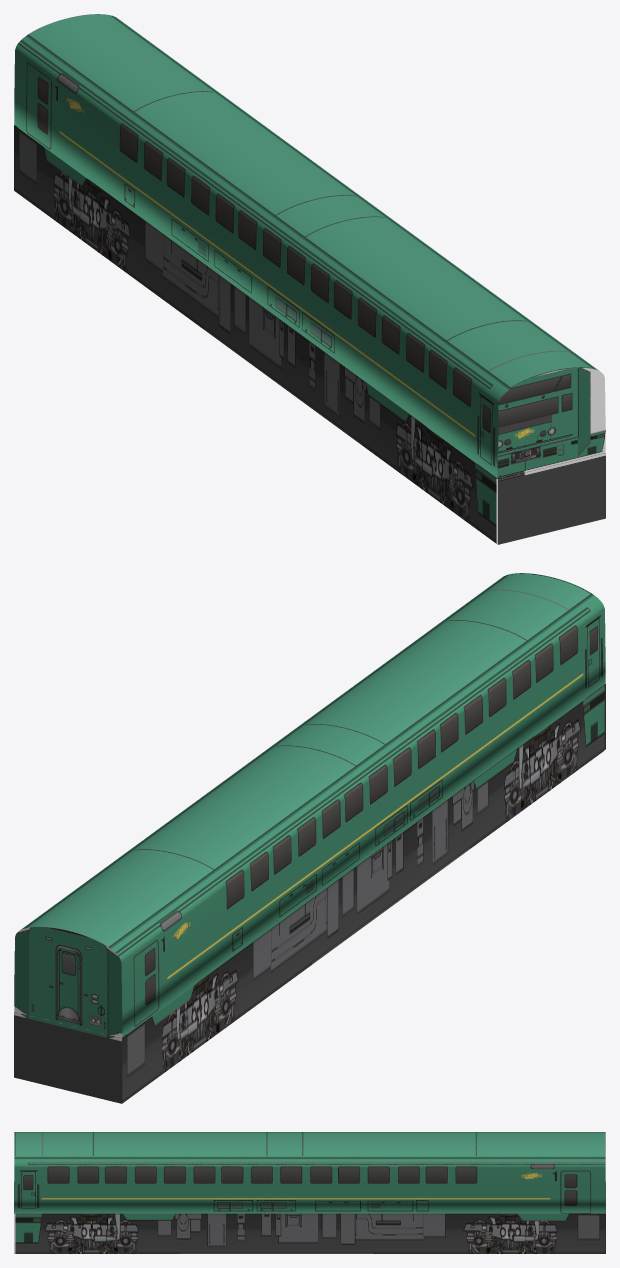
File: car1.glb
The picture shows the model from 3 angles, top to bottom: view 1: azimuth 30°, elevation 25°; view 2: azimuth 150°, elevation 25°; view 3: azimuth 270°, elevation 25°; orthographic projection. The views are drawn at different scales.
Parts seen in each view (by area): view 1: jr-kyusyu-kiha72-car1; view 2: jr-kyusyu-kiha72-car1; view 3: jr-kyusyu-kiha72-car1.
Part boxes in pixels (bbox=[...]): jr-kyusyu-kiha72-car1: bbox=[14, 14, 605, 544]; jr-kyusyu-kiha72-car1: bbox=[14, 573, 605, 1103]; jr-kyusyu-kiha72-car1: bbox=[14, 1132, 605, 1253].
Bounding box in the file's own units: 2.9 × 4.09 × 22.51.
Materials: 9 (8 with a texture image).
